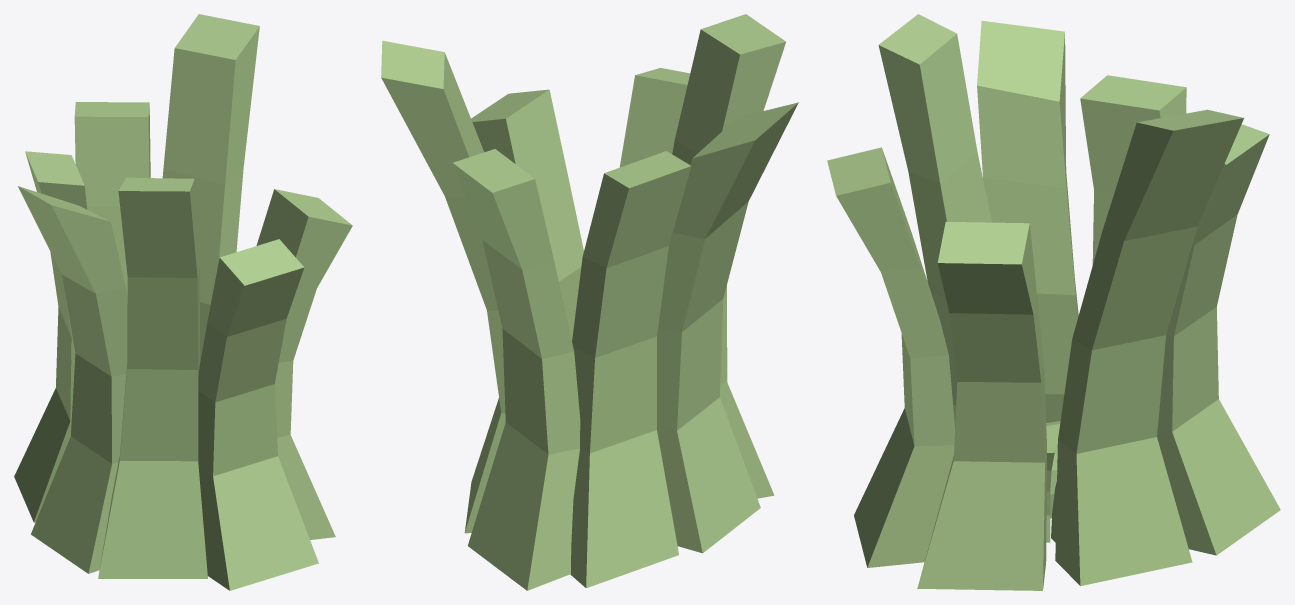
The model's file is Grass__4.glb.
The picture shows the model from 3 angles, left to right: view 1: azimuth 30°, elevation 25°; view 2: azimuth 150°, elevation 25°; view 3: azimuth 270°, elevation 25°; orthographic projection. The views are drawn at different scales.
Parts seen in each view (by area): view 1: Grass #4; view 2: Grass #4; view 3: Grass #4.
Boxes of the visible parts, <box> form: Grass #4: <box>14,14,352,590</box>; Grass #4: <box>381,14,798,590</box>; Grass #4: <box>827,14,1280,590</box>.
Bounding box in the file's own units: 0.1526 × 0.2106 × 0.1799.
